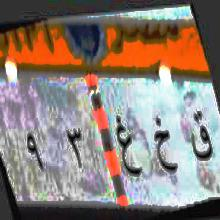3: (67, 115, 85, 183)
9: (21, 120, 48, 180)
ghayn: (116, 107, 142, 188)
khaa: (150, 110, 179, 188)
qaaf: (186, 104, 213, 174)
